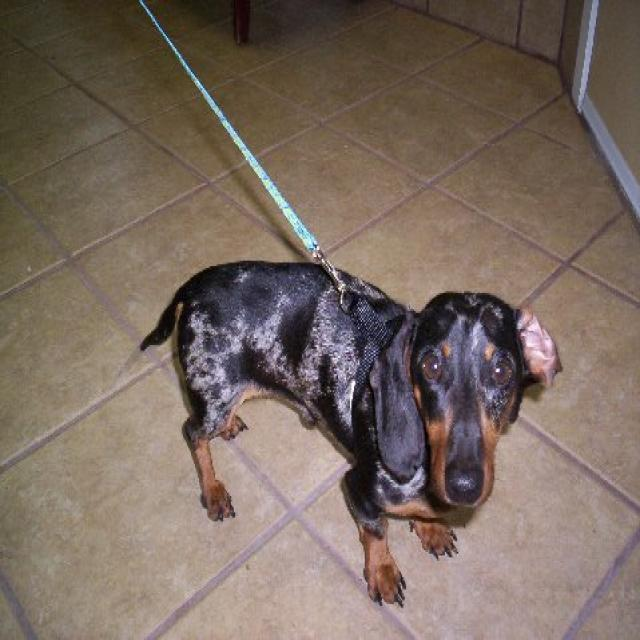dogs: (140, 260, 564, 610)
